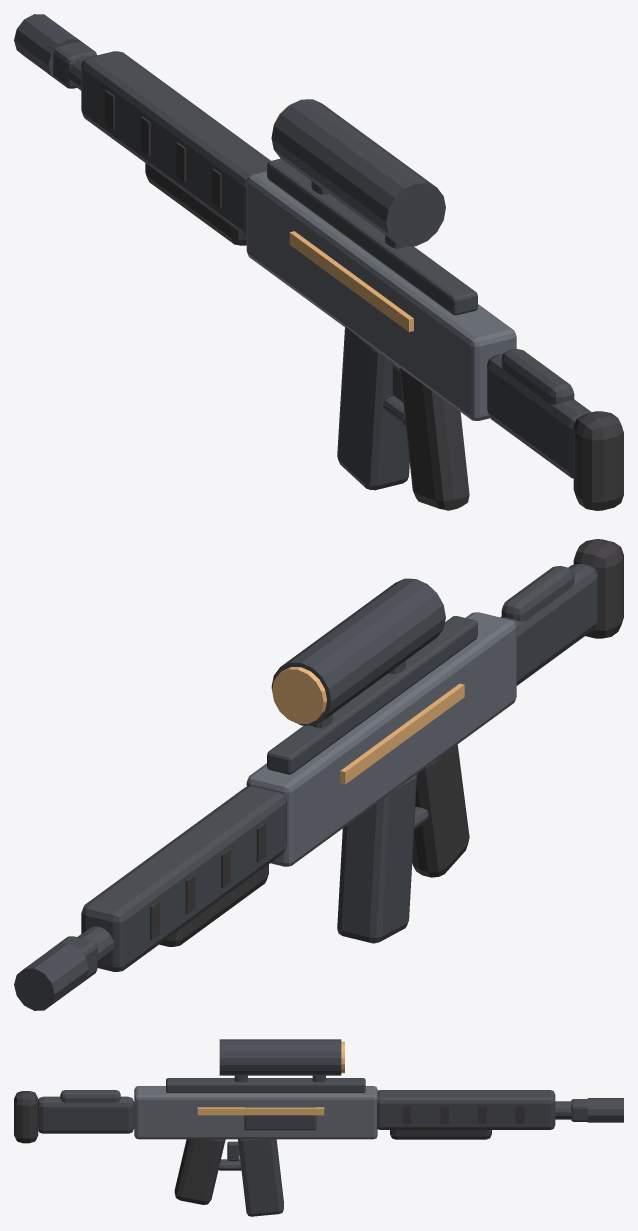
Rendered from WPN_ScoutRifle.fbx.
The picture shows the model from 3 angles, top to bottom: view 1: azimuth 30°, elevation 25°; view 2: azimuth 150°, elevation 25°; view 3: azimuth 270°, elevation 25°; orthographic projection. The views are drawn at different scales.
Visible parts, largest first — view 1: WPN_ScoutRifle; view 2: WPN_ScoutRifle; view 3: WPN_ScoutRifle.
Boxes of the visible parts, left/top/right/bottom form: WPN_ScoutRifle: left=14, top=14, right=623, bottom=510; WPN_ScoutRifle: left=14, top=539, right=623, bottom=1010; WPN_ScoutRifle: left=14, top=1039, right=623, bottom=1216.
Size of the model in its own units: 0.06 by 0.312 by 1.
